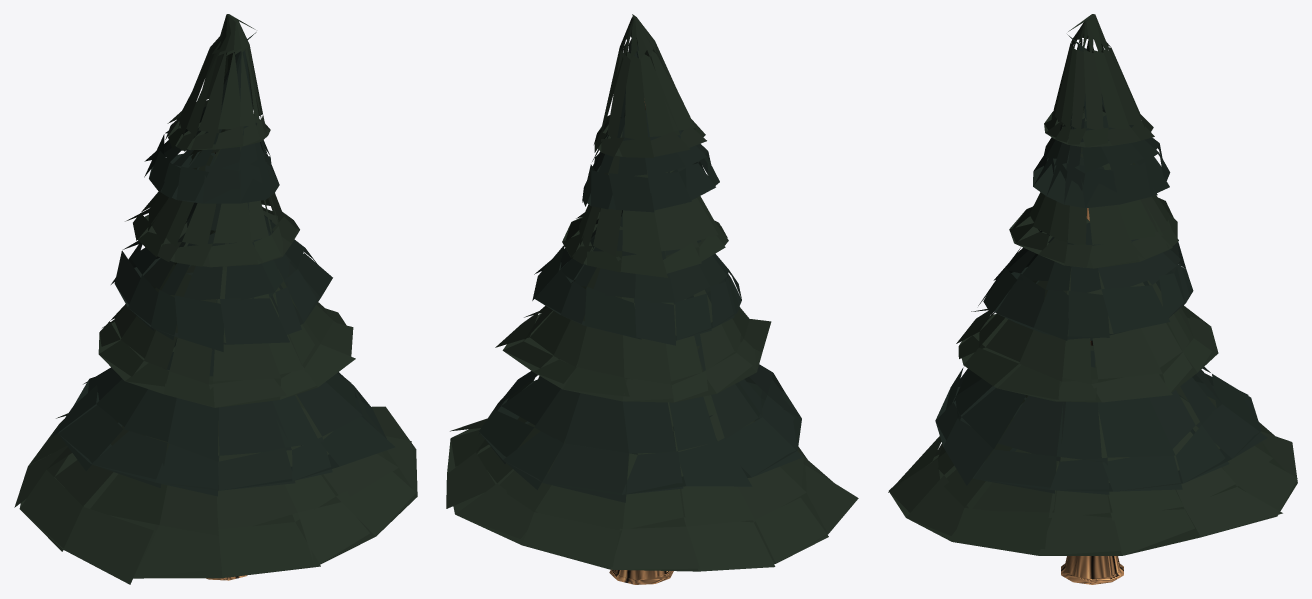
File: pine.obj
The picture shows the model from 3 angles, left to right: view 1: azimuth 30°, elevation 25°; view 2: azimuth 150°, elevation 25°; view 3: azimuth 270°, elevation 25°; orthographic projection.
Bounding box in the file's own units: 4.22 × 6.32 × 4.21.
3 materials, 1 textured.
